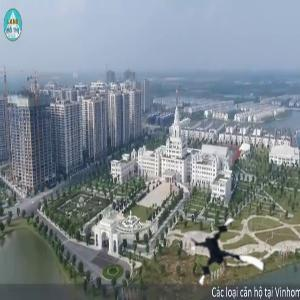drone: (185, 216, 269, 300)
